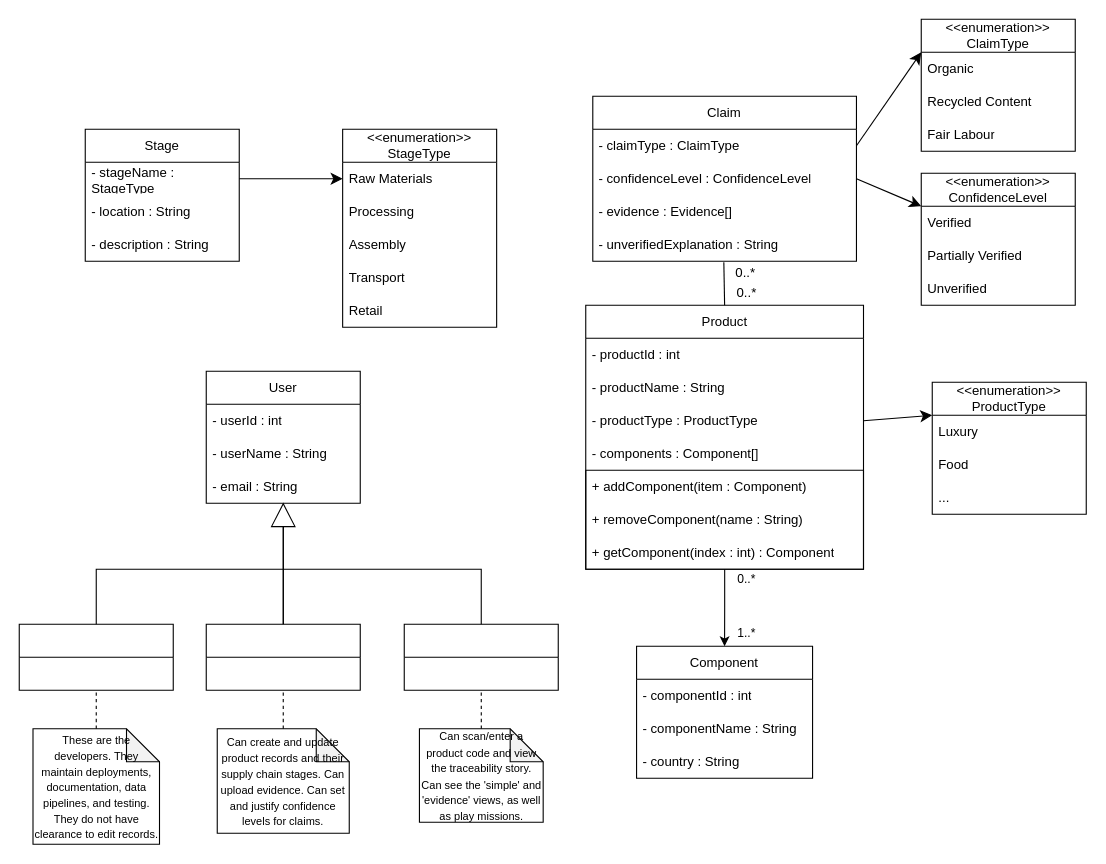
Image size: 1106x864. Some labels were removed from this diagram. The centre of each missing label's shape, as x and y in pixels:
"Consumer" belongs at (480,656).
"Maintainer" belongs at (95,656).
"Verifier" belongs at (282,656).
